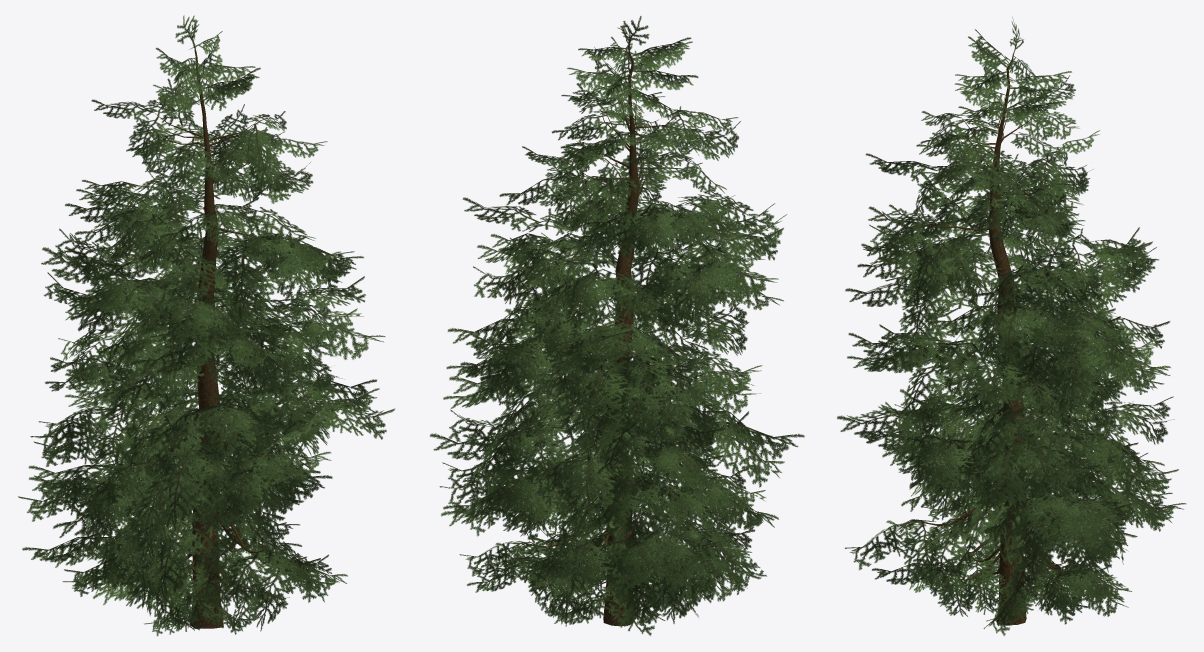
File: tree_fir_1.glb
The picture shows the model from 3 angles, left to right: view 1: azimuth 30°, elevation 25°; view 2: azimuth 150°, elevation 25°; view 3: azimuth 270°, elevation 25°; orthographic projection. The views are drawn at different scales.
Parts seen in each view (by area): view 1: tree_fir_1; view 2: tree_fir_1; view 3: tree_fir_1.
Boxes of the visible parts, bbox=[...] form: tree_fir_1: bbox=[18, 15, 394, 636]; tree_fir_1: bbox=[429, 16, 804, 635]; tree_fir_1: bbox=[837, 16, 1186, 635].
Size of the model in its own units: 4.96 by 8.8 by 4.76.
Materials: 2 (2 with a texture image).
